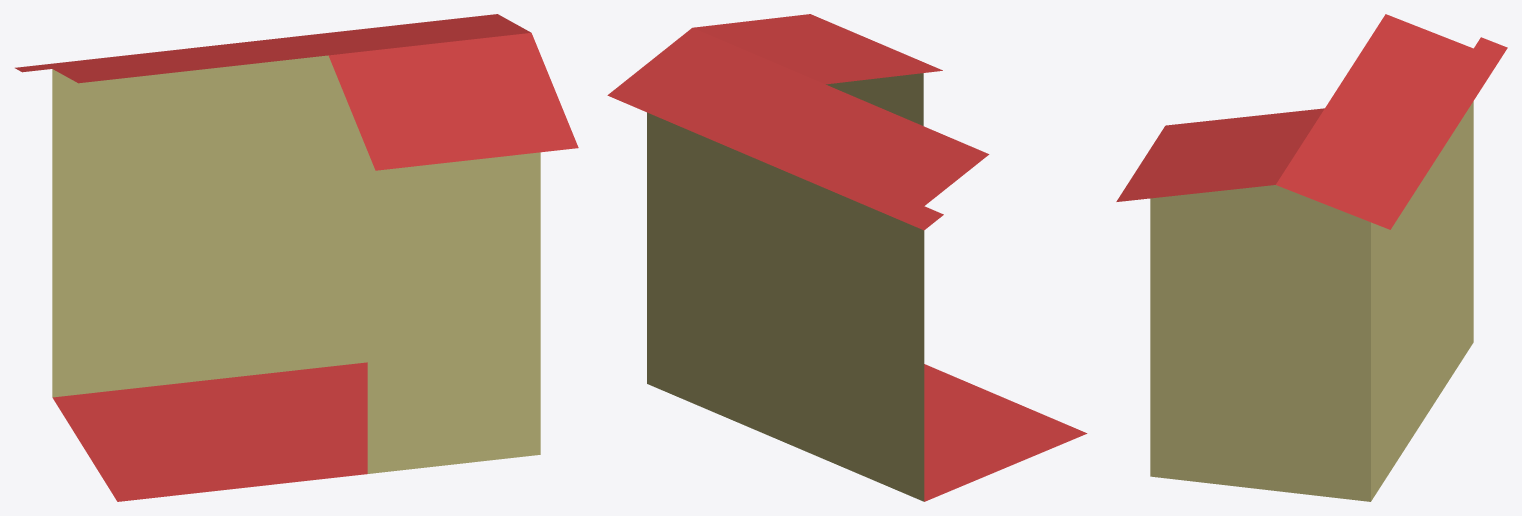
3 views of the same model, side by side, from view 1: azimuth 30°, elevation 25°; view 2: azimuth 150°, elevation 25°; view 3: azimuth 270°, elevation 25° (orthographic). The views are drawn at different scales.
Size of the model in its own units: 12.69 by 10.53 by 9.44.
